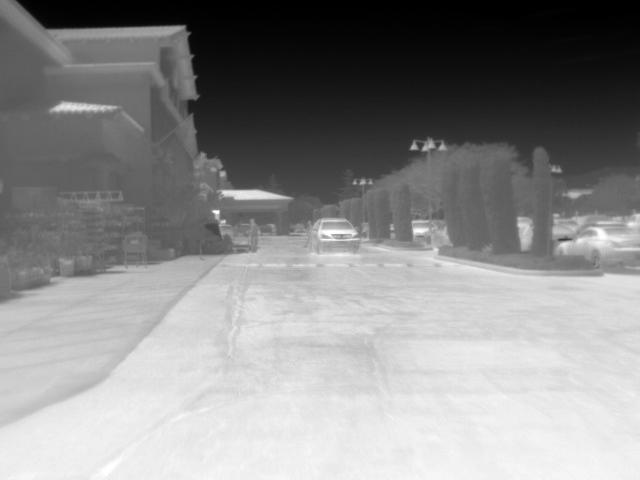car: (556, 222, 640, 274), (310, 215, 363, 252), (411, 219, 439, 244), (516, 217, 535, 252), (551, 223, 578, 246), (428, 223, 452, 243), (220, 222, 236, 239), (294, 222, 307, 233), (261, 224, 274, 235)
person: (246, 218, 260, 255)
